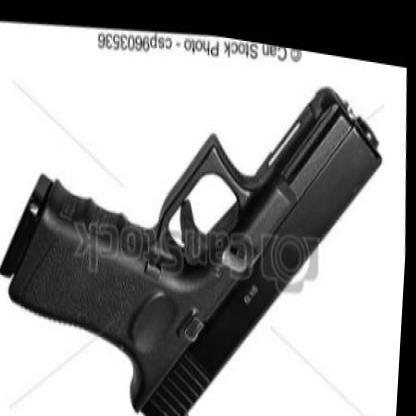pistol: (0, 17, 402, 413)
